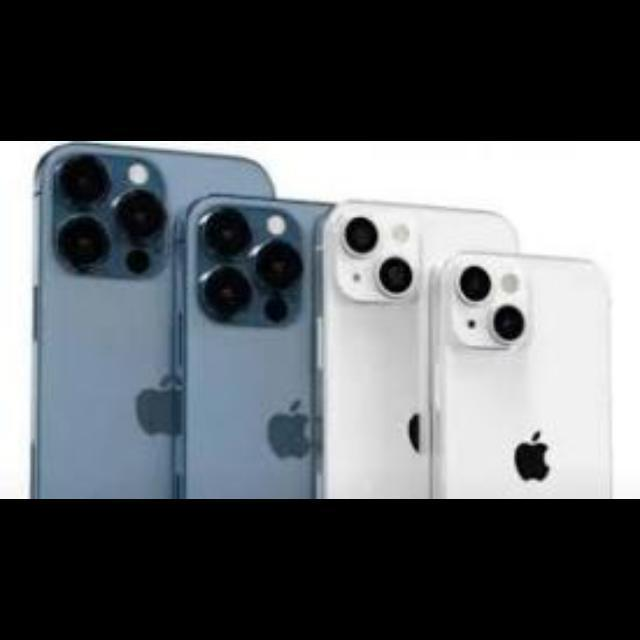PhoneUse: (30, 141, 272, 499), (324, 198, 518, 498), (430, 248, 612, 500), (175, 187, 319, 498)
